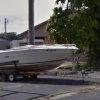Boat: (2, 36, 79, 80)
